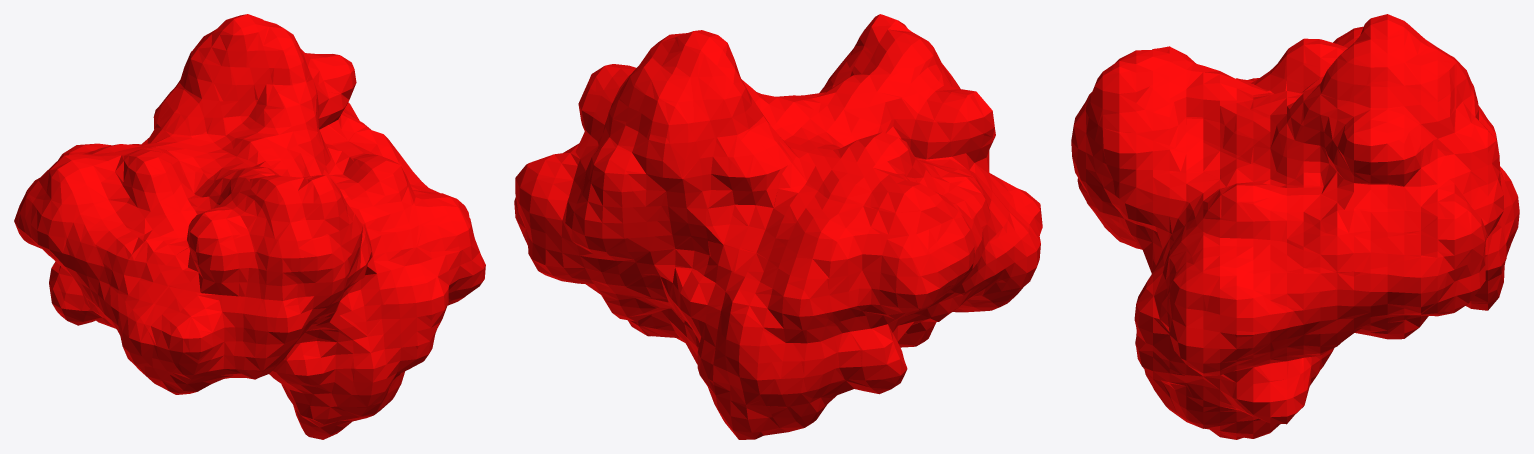
Rendered from metB_coarse.dae.
3 views of the same model, side by side, from view 1: azimuth 30°, elevation 25°; view 2: azimuth 150°, elevation 25°; view 3: azimuth 270°, elevation 25° (orthographic). The views are drawn at different scales.
Visible parts, largest first — view 1: metB; view 2: metB; view 3: metB.
Boxes of the visible parts, x1,y1,x2,y2 form: metB: (14,14,485,439); metB: (514,14,1042,439); metB: (1071,14,1519,439).
Size of the model in its own units: 103 by 95.32 by 93.82.
